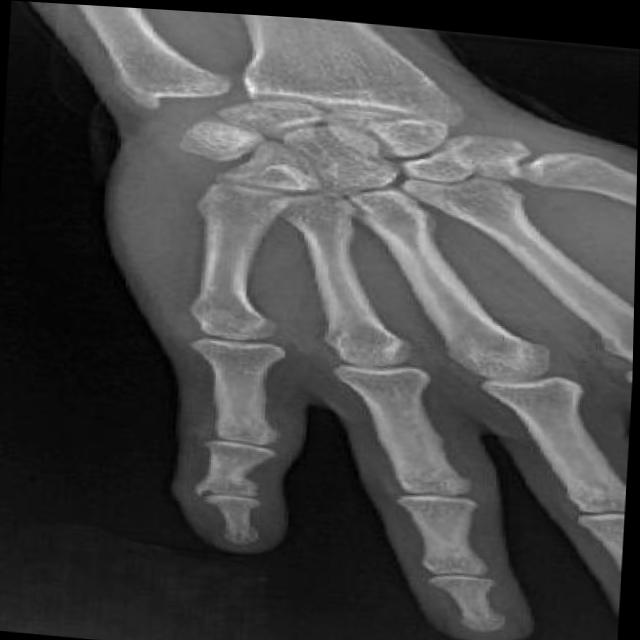fracture: (181, 472, 254, 503)
